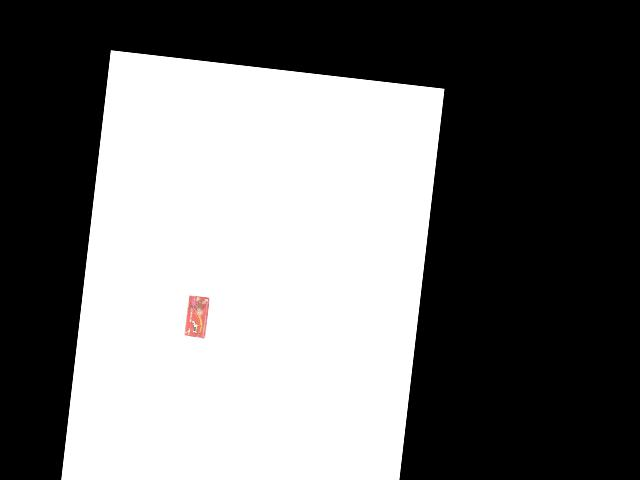chocolate: (184, 294, 211, 340)
